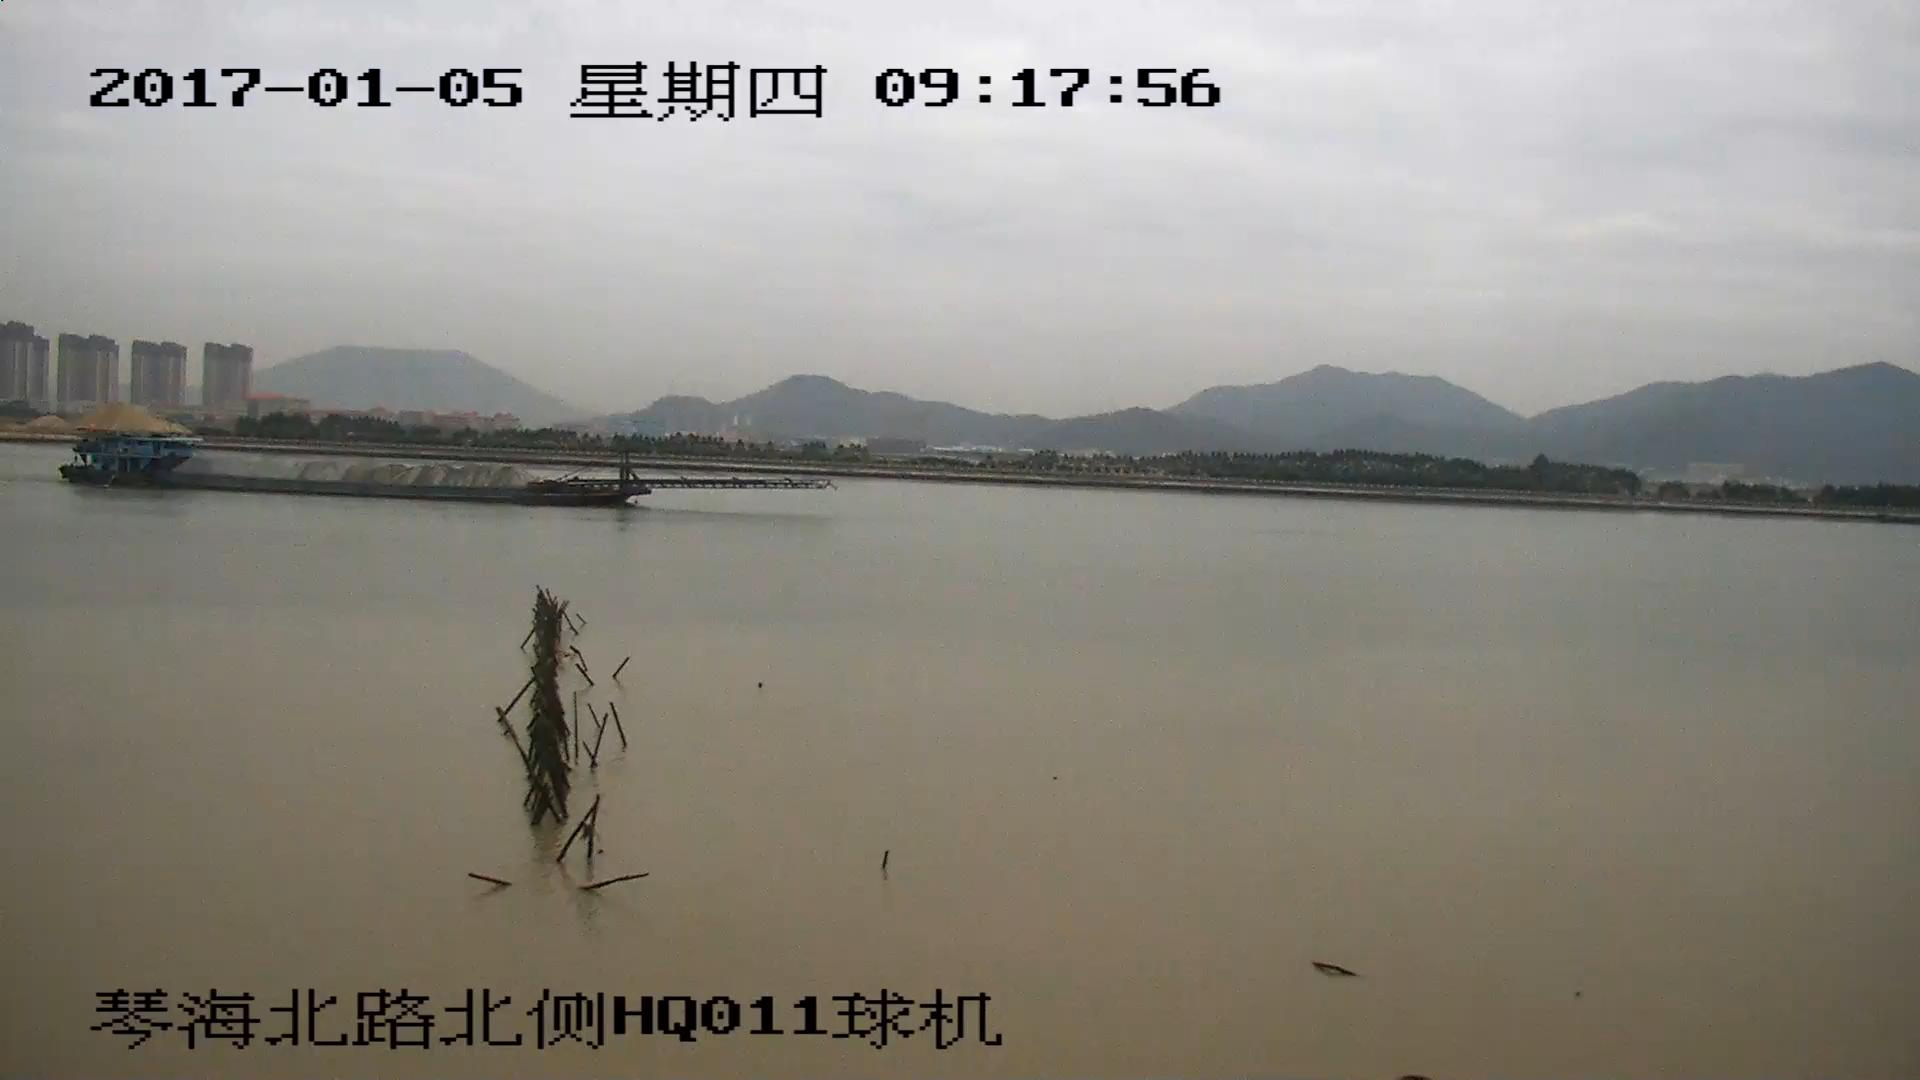ore carrier: (62, 432, 830, 506)
